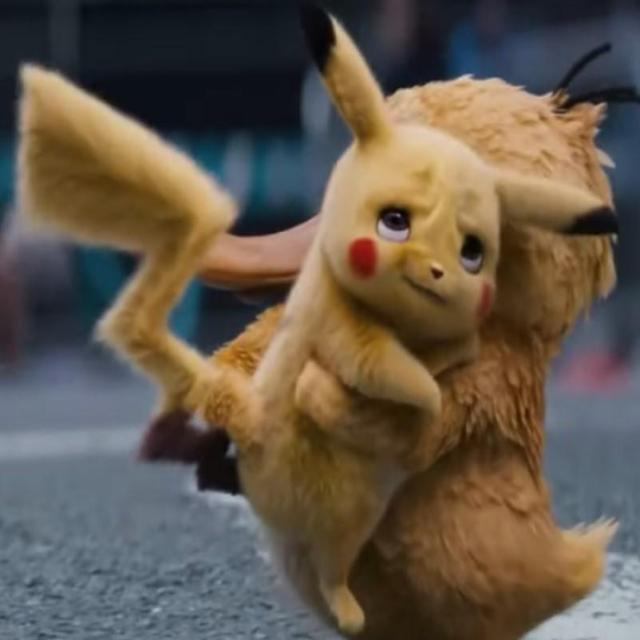pikachu: (22, 8, 622, 630)
